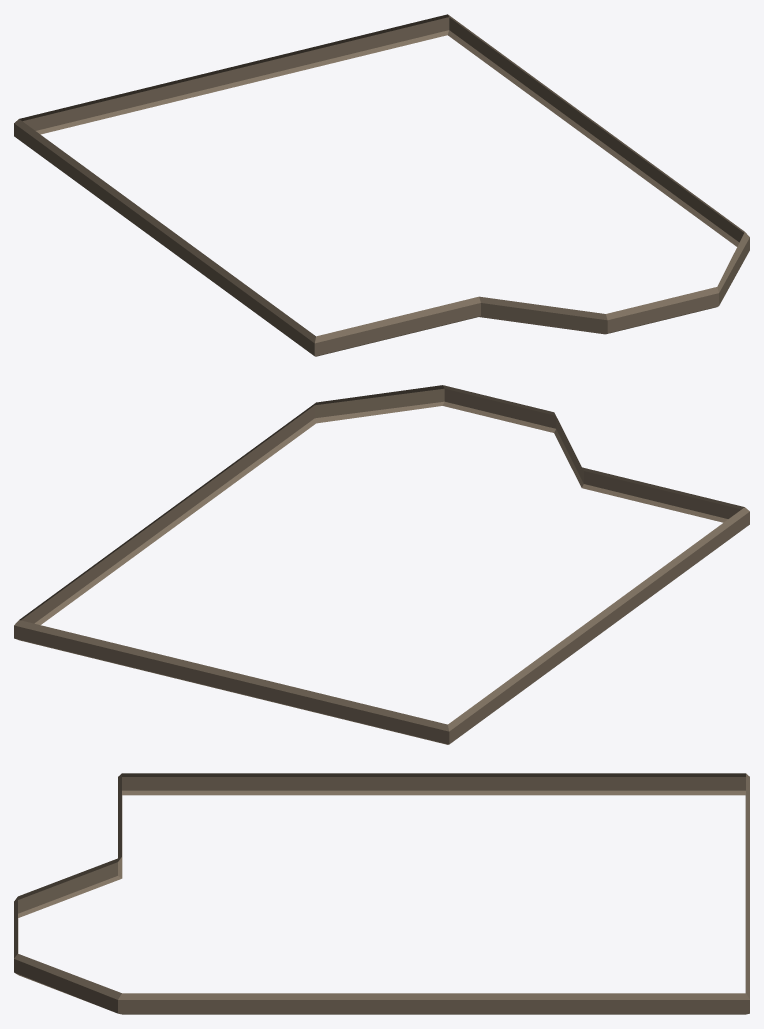
File: SM_Bldg_City_Apartment_T2_Cornice_04.fbx
3 renders of one model, top to bottom at view 1: azimuth 30°, elevation 25°; view 2: azimuth 150°, elevation 25°; view 3: azimuth 270°, elevation 25°, orthographic. The views are drawn at different scales.
Visible parts, largest first — view 1: SM_Bldg_City_Apartment_T2_Cornice_04; view 2: SM_Bldg_City_Apartment_T2_Cornice_04; view 3: SM_Bldg_City_Apartment_T2_Cornice_04.
Boxes of the visible parts, <box> form: SM_Bldg_City_Apartment_T2_Cornice_04: <box>14,14,749,356</box>; SM_Bldg_City_Apartment_T2_Cornice_04: <box>14,385,749,744</box>; SM_Bldg_City_Apartment_T2_Cornice_04: <box>14,773,749,1014</box>.
Size of the model in its own units: 507 by 23 by 707.
